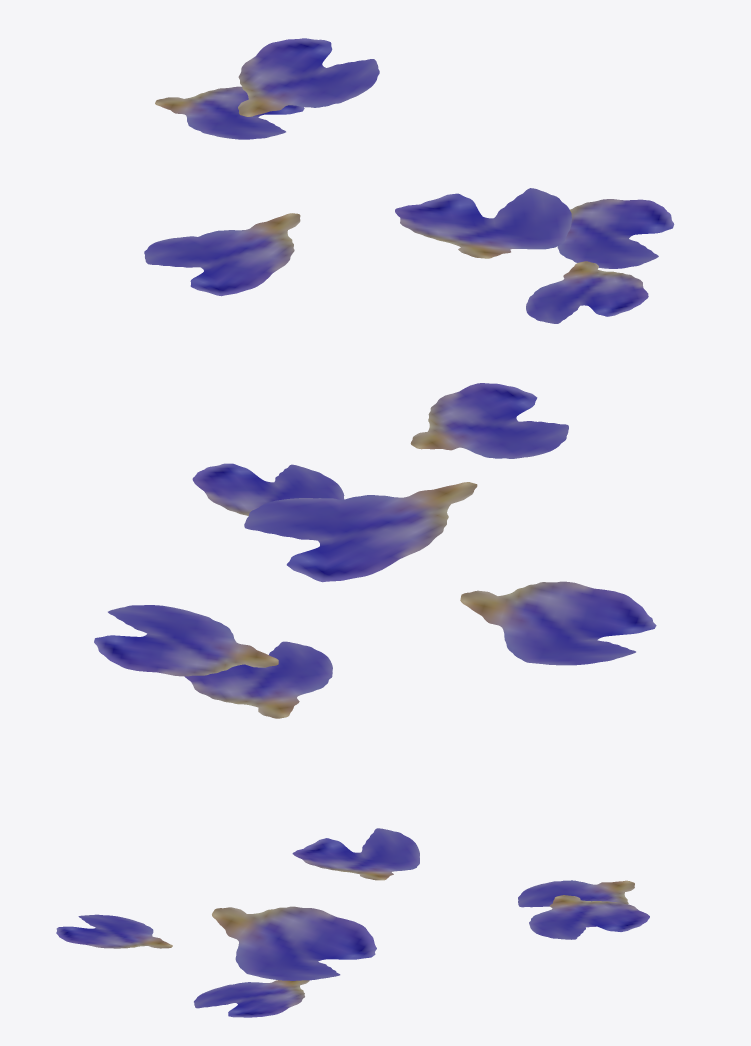
Rendered from arden_forest_lupin_06_foliage.fbx.
3 views of the same model, one above another, from view 1: azimuth 30°, elevation 25°; view 2: azimuth 150°, elevation 25°; view 3: azimuth 270°, elevation 25° (orthographic). The views are drawn at different scales.
Visible parts, largest first — view 1: arden_forest_lupin_06_foliage; view 2: arden_forest_lupin_06_foliage; view 3: arden_forest_lupin_06_foliage.
Part boxes in pixels (x1,y1,x2,y2): arden_forest_lupin_06_foliage: [144, 38, 674, 323]; arden_forest_lupin_06_foliage: [94, 383, 656, 718]; arden_forest_lupin_06_foliage: [56, 828, 649, 1017].
Size of the model in its own units: 24.14 by 2.94 by 30.15.
